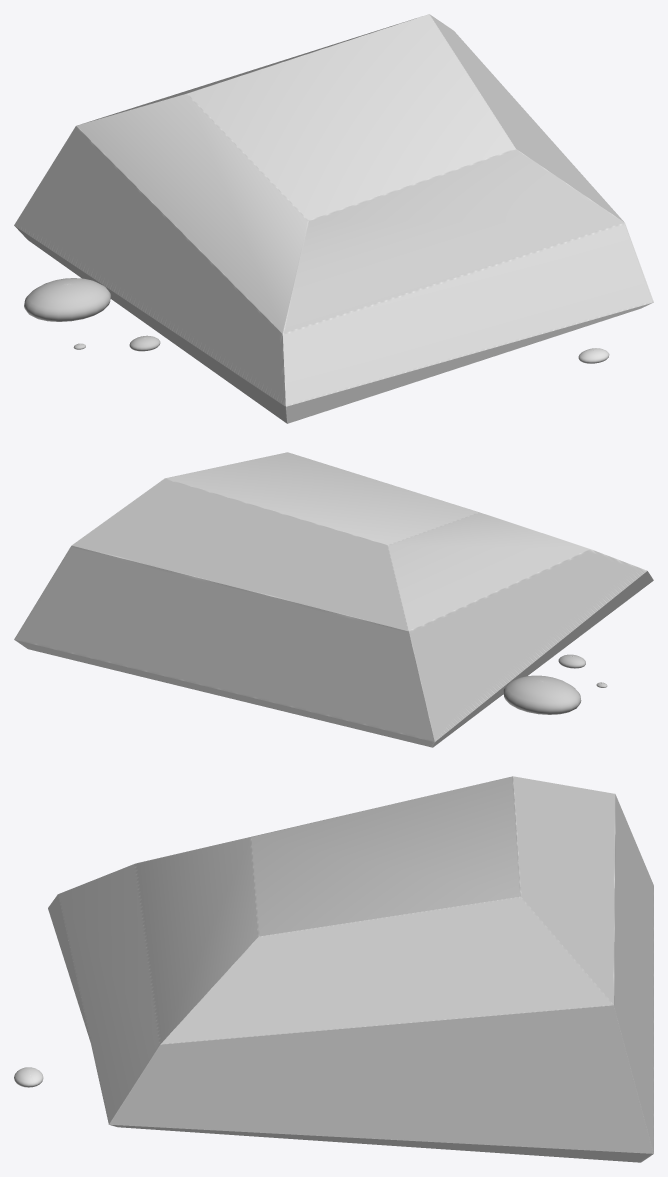
File: Rock.fbx
3 views of the same model, one above another, from view 1: azimuth 30°, elevation 25°; view 2: azimuth 150°, elevation 25°; view 3: azimuth 270°, elevation 25° (orthographic). The views are drawn at different scales.
Parts seen in each view (by area): view 1: polySurface9; view 2: polySurface9; view 3: polySurface9.
Part boxes in pixels (bbox=[...]): polySurface9: bbox=[14, 14, 653, 423]; polySurface9: bbox=[14, 452, 653, 747]; polySurface9: bbox=[14, 776, 653, 1162].
Size of the model in its own units: 0.9834 by 0.3132 by 0.8577.
